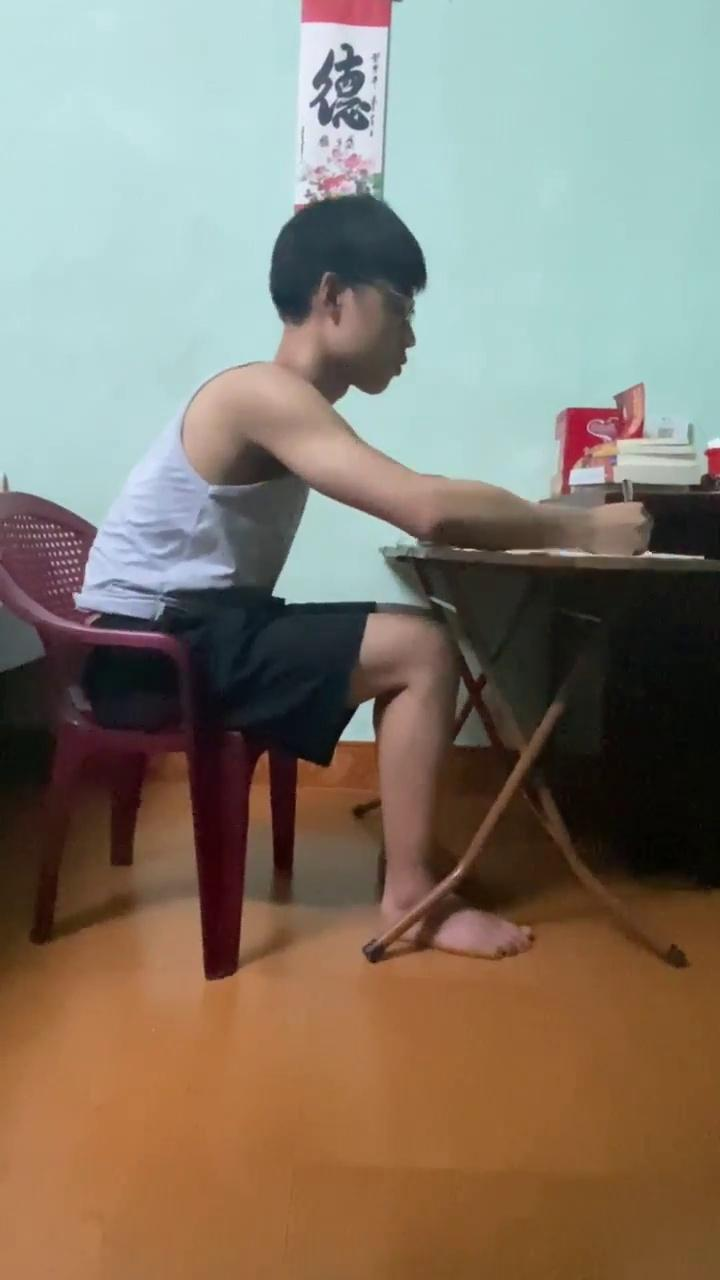BadPosture: (83, 190, 549, 922)
